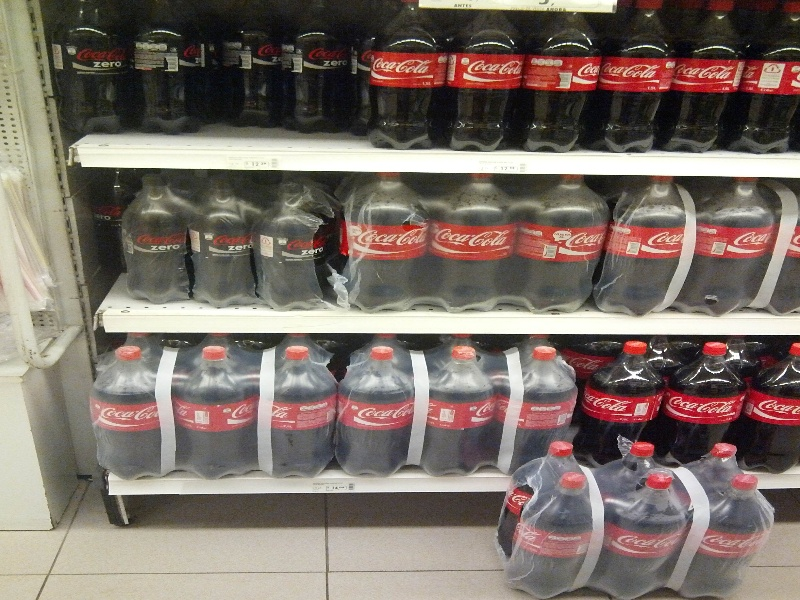lemonade: (517, 175, 608, 318), (340, 174, 429, 311), (367, 1, 444, 152), (443, 5, 519, 155), (670, 4, 743, 159), (523, 12, 600, 156), (433, 172, 509, 313), (187, 173, 264, 311), (179, 348, 254, 483), (333, 349, 413, 475), (695, 176, 765, 317), (90, 350, 167, 477), (736, 1, 799, 156), (601, 2, 666, 152), (265, 348, 339, 475), (519, 472, 589, 600)
